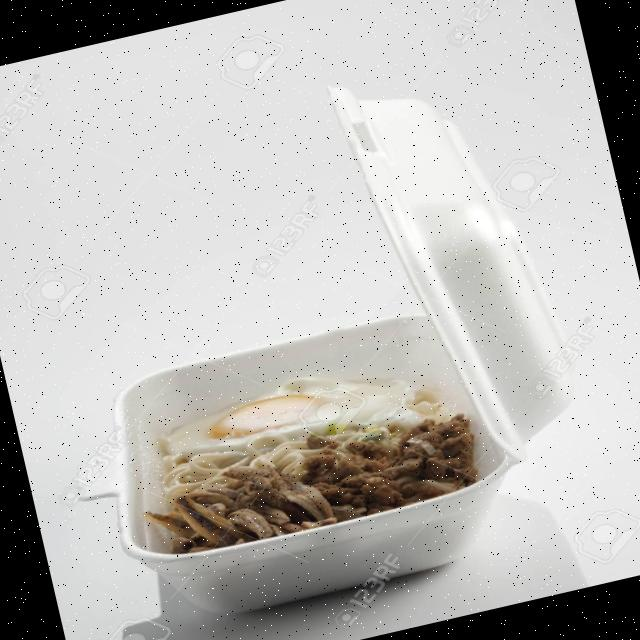styrofoam: (0, 43, 618, 640)
